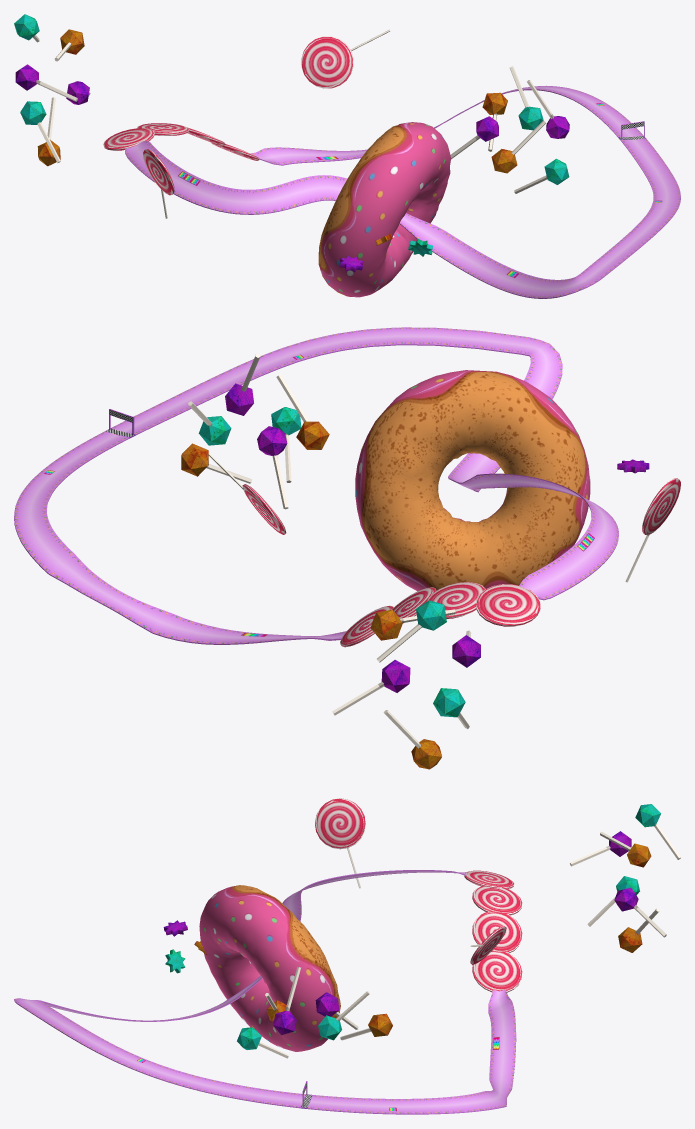
The model's file is sweet.obj.
3 renders of one model, top to bottom at view 1: azimuth 30°, elevation 25°; view 2: azimuth 150°, elevation 25°; view 3: azimuth 270°, elevation 25°, orthographic. The views are drawn at different scales.
Parts seen in each view (by area): view 1: Visual; view 2: Visual; view 3: Visual.
Part boxes in pixels (box(x1,y1,x2,y2)): Visual: box(14, 14, 680, 298); Visual: box(14, 327, 680, 769); Visual: box(14, 798, 680, 1114).
Size of the model in its own units: 40.8 by 14.02 by 50.34.
